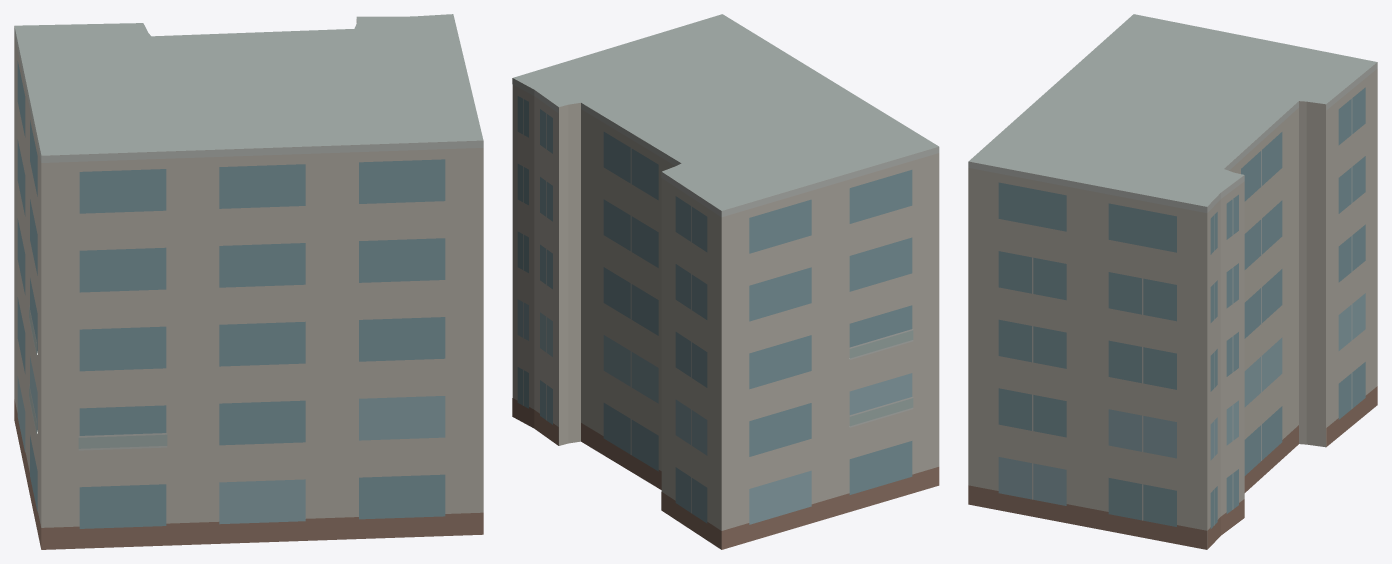
Rendered from survey-upis-33038536.glb.
3 renders of one model, left to right at view 1: azimuth 30°, elevation 25°; view 2: azimuth 150°, elevation 25°; view 3: azimuth 270°, elevation 25°, orthographic. The views are drawn at different scales.
Parts seen in each view (by area): view 1: survey-upis-33038536.tmp; view 2: survey-upis-33038536.tmp; view 3: survey-upis-33038536.tmp.
Part boxes in pixels (x1,y1,x2,y2): survey-upis-33038536.tmp: (14,14,483,549); survey-upis-33038536.tmp: (512,14,939,549); survey-upis-33038536.tmp: (968,14,1377,549).
Bounding box in the file's own units: 15.81 × 13.1 × 14.17.
